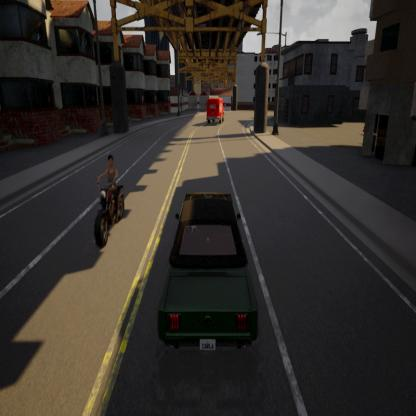Cars: (154, 186, 266, 362), (206, 96, 228, 126)
